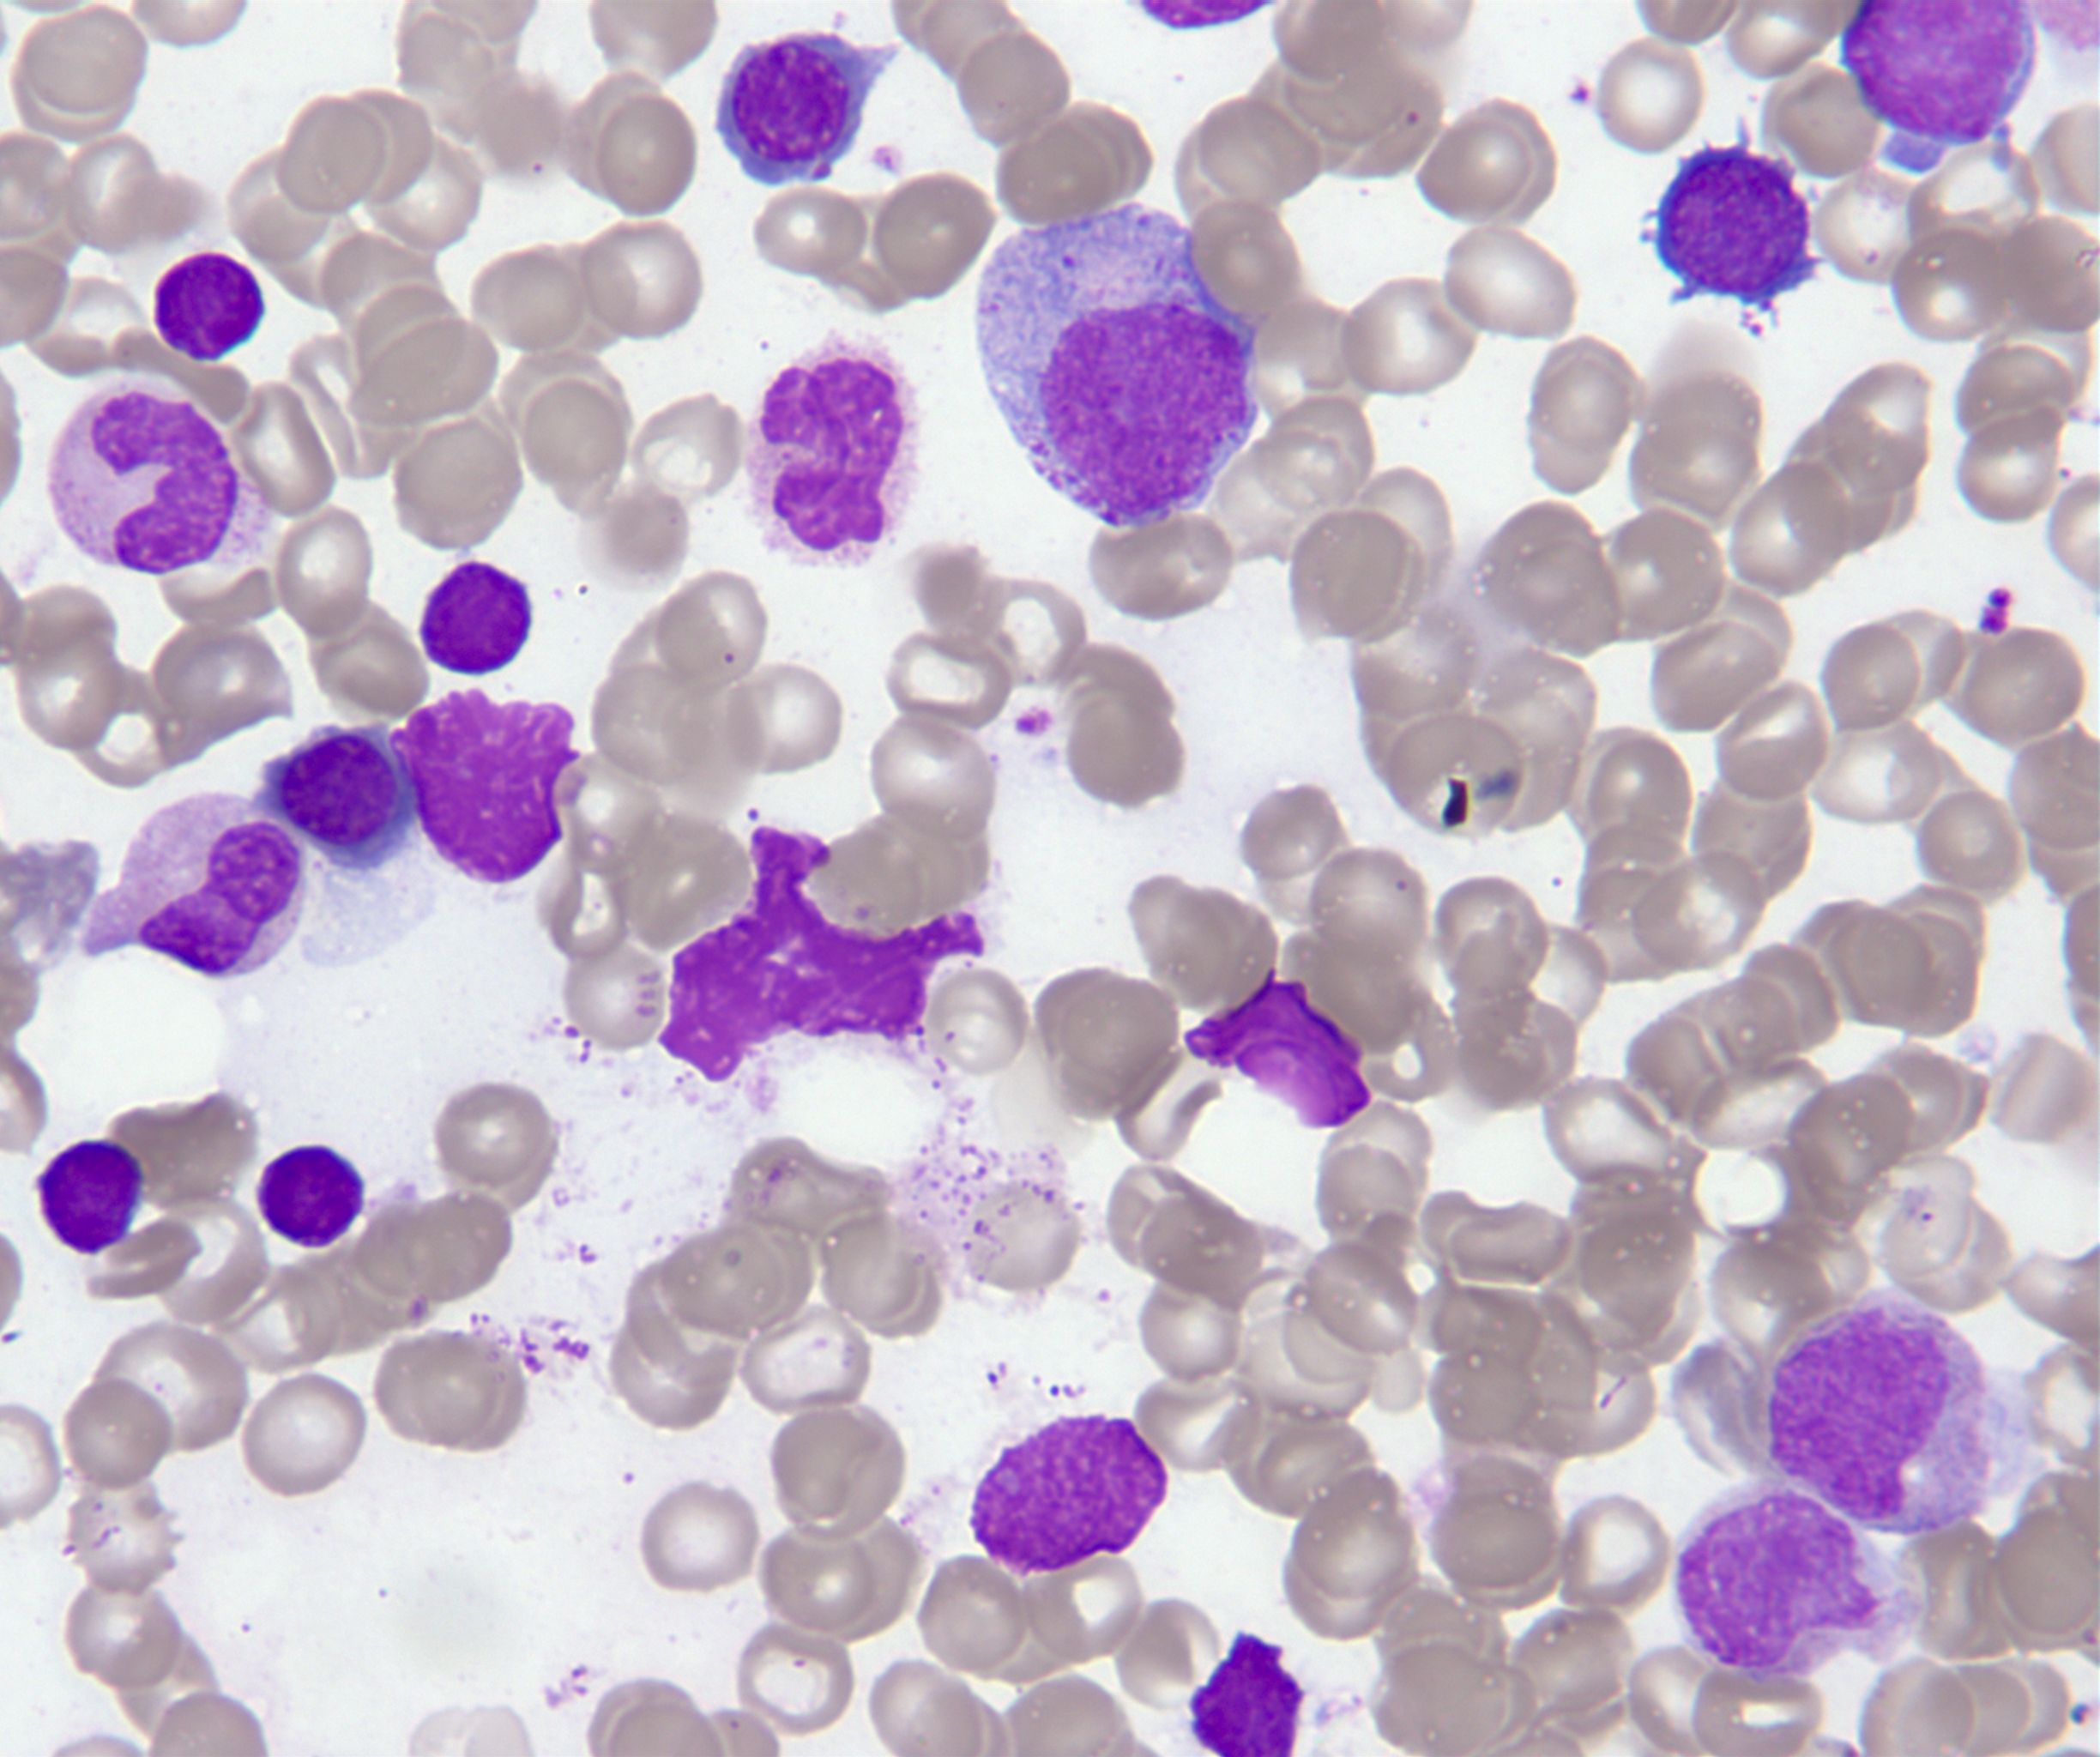23: (1633, 133, 1831, 314), (706, 23, 907, 192)
24: (248, 712, 433, 878)
3: (970, 194, 1272, 537)
32: (408, 553, 548, 680), (30, 1131, 153, 1263), (145, 248, 270, 365), (253, 1138, 370, 1256)
4: (1758, 1284, 2023, 1539), (1664, 1464, 1934, 1687), (33, 368, 272, 579), (72, 789, 316, 982)
x: (738, 314, 930, 576), (382, 684, 584, 892), (959, 1408, 1174, 1584)
